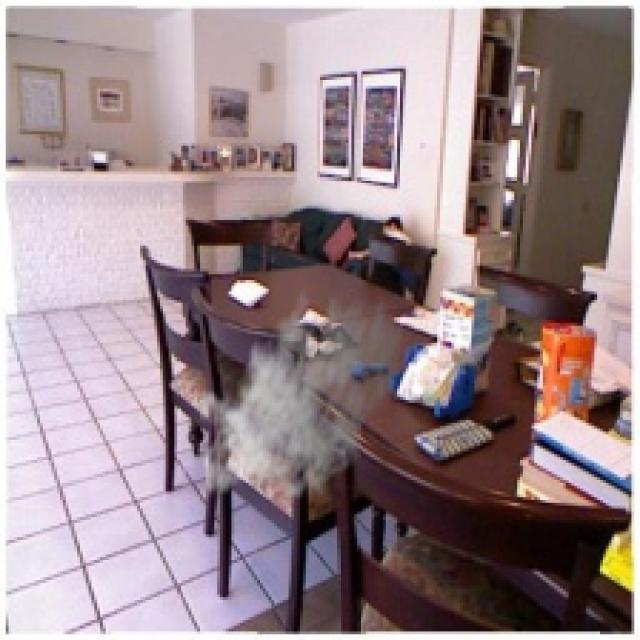Smoke: (197, 277, 406, 509)
